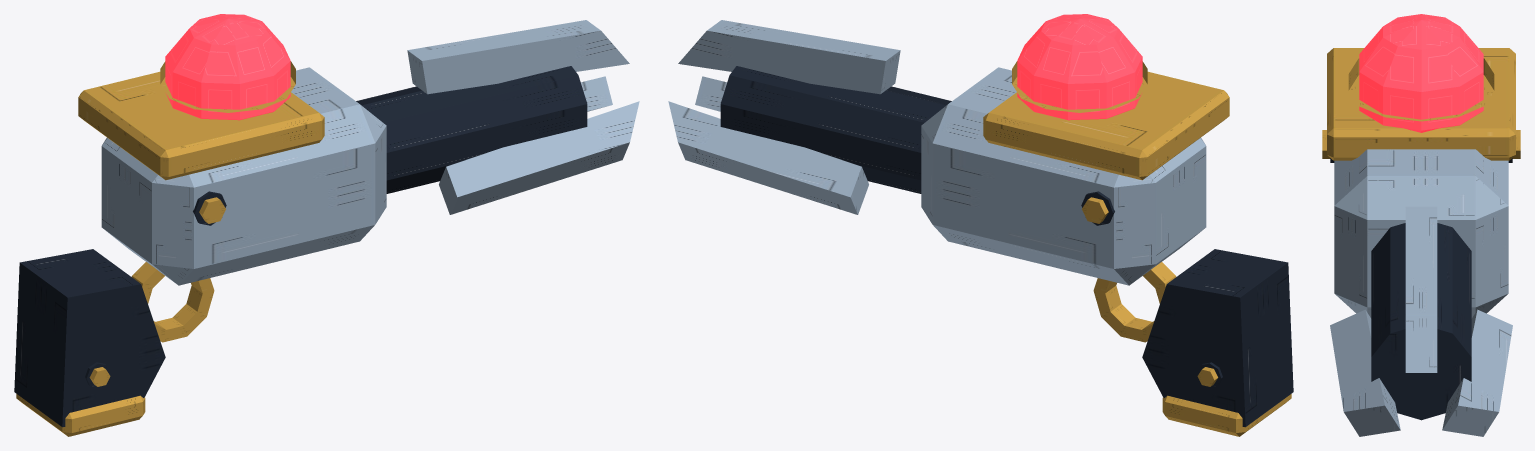
File: catalyzer.glb
The picture shows the model from 3 angles, left to right: view 1: azimuth 30°, elevation 25°; view 2: azimuth 150°, elevation 25°; view 3: azimuth 270°, elevation 25°; orthographic projection. The views are drawn at different scales.
Parts seen in each view (by area): view 1: body, barrel, grip, core; view 2: body, barrel, grip, core; view 3: body, barrel, core.
Part boxes in pixels (left/top/right/bottom): body: left=78, top=67, right=386, bottom=342; barrel: left=356, top=20, right=639, bottom=214; grip: left=14, top=249, right=165, bottom=436; core: left=160, top=14, right=295, bottom=120; body: left=921, top=67, right=1229, bottom=342; barrel: left=668, top=20, right=951, bottom=214; grip: left=1142, top=249, right=1293, bottom=436; core: left=1012, top=14, right=1147, bottom=120; body: left=1322, top=48, right=1520, bottom=318; barrel: left=1330, top=206, right=1512, bottom=436; core: left=1348, top=14, right=1494, bottom=132.
Bounding box in the file's own units: 0.548 × 0.32 × 0.1498.
Materials: 4 (4 with a texture image).
